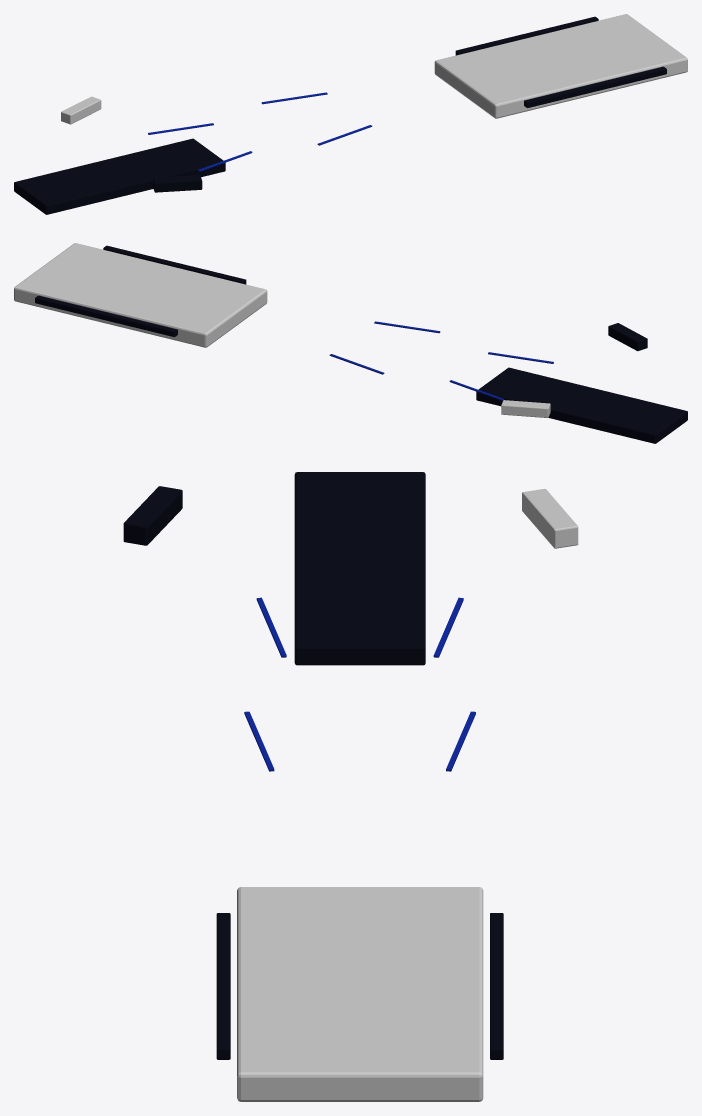
The model's file is destiny_lord_bow_stage9_refined_A.obj.
3 renders of one model, top to bottom at view 1: azimuth 30°, elevation 25°; view 2: azimuth 150°, elevation 25°; view 3: azimuth 270°, elevation 25°, orthographic. The views are drawn at different scales.
Visible parts, largest first — view 1: DL_Bow_Crown_Plate, DL_Center_Ridge_Fwd, DL_Bow_Crown_SideBrace_-1, DL_Bow_Crown_SideBrace_1, DL_Fate_Ring_Node_7, DL_Fate_Ring_Node_0; view 2: DL_Bow_Crown_Plate, DL_Center_Ridge_Fwd, DL_Bow_Crown_SideBrace_1, DL_Bow_Crown_SideBrace_-1, DL_Fate_Ring_Node_0, DL_Fate_Ring_Node_7; view 3: DL_Bow_Crown_Plate, DL_Center_Ridge_Fwd, DL_Bow_Crown_SideBrace_-1, DL_Fate_Ring_Node_7, DL_Fate_Ring_Node_0, DL_Bow_Crown_SideBrace_1.
Part boxes in pixels (left/top/right/bottom): DL_Bow_Crown_Plate: left=434, top=14, right=687, bottom=118; DL_Center_Ridge_Fwd: left=14, top=138, right=225, bottom=214; DL_Bow_Crown_SideBrace_-1: left=524, top=66, right=666, bottom=107; DL_Bow_Crown_SideBrace_1: left=455, top=16, right=598, bottom=55; DL_Fate_Ring_Node_7: left=153, top=175, right=202, bottom=192; DL_Fate_Ring_Node_0: left=61, top=96, right=101, bottom=124; DL_Bow_Crown_Plate: left=14, top=243, right=267, bottom=347; DL_Center_Ridge_Fwd: left=476, top=367, right=687, bottom=443; DL_Bow_Crown_SideBrace_1: left=35, top=295, right=177, bottom=336; DL_Bow_Crown_SideBrace_-1: left=103, top=245, right=246, bottom=284; DL_Fate_Ring_Node_0: left=501, top=400, right=550, bottom=417; DL_Fate_Ring_Node_7: left=608, top=323, right=647, bottom=351; DL_Bow_Crown_Plate: left=237, top=887, right=483, bottom=1101; DL_Center_Ridge_Fwd: left=294, top=472, right=425, bottom=665; DL_Bow_Crown_SideBrace_-1: left=216, top=913, right=230, bottom=1059; DL_Fate_Ring_Node_7: left=123, top=486, right=182, bottom=545; DL_Fate_Ring_Node_0: left=522, top=489, right=578, bottom=548; DL_Bow_Crown_SideBrace_1: left=490, top=913, right=503, bottom=1059.
Bounding box in the file's own units: 37.7 × 2.24 × 11.82.
